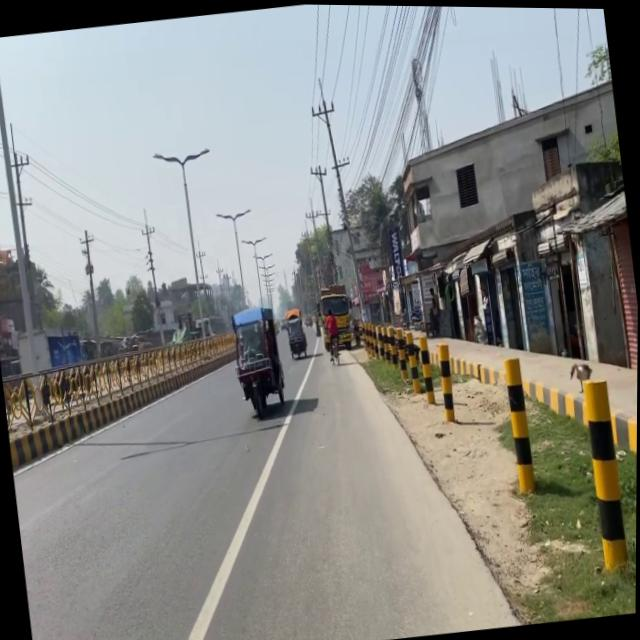Bench: (378, 293, 638, 592)
Construction-barrier: (343, 325, 527, 639)
Fallen-tree: (284, 313, 308, 360), (325, 328, 344, 365)
Garbage-bin: (322, 307, 341, 355), (472, 312, 488, 343)
Pole: (0, 337, 229, 491)
Traffic-cone: (227, 303, 289, 419), (312, 281, 359, 351)
